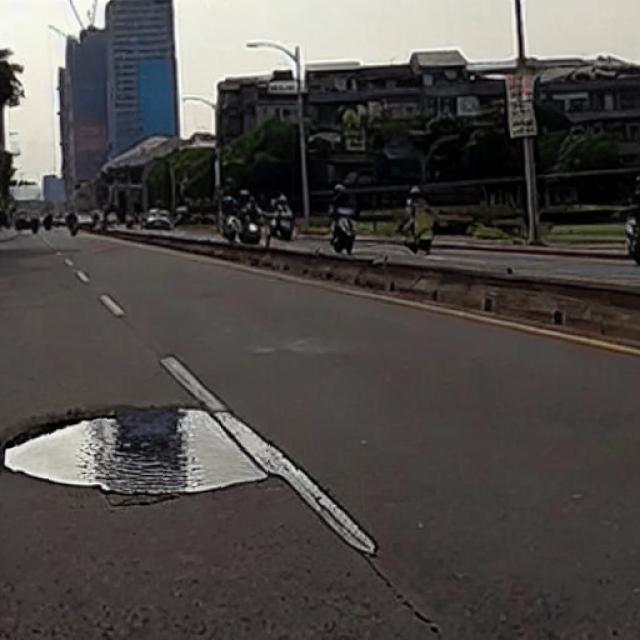puddle: (3, 404, 270, 494)
